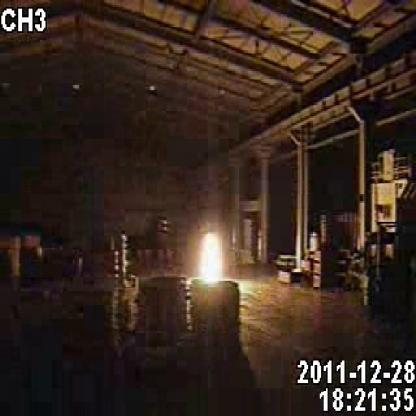fire: (187, 204, 246, 314)
